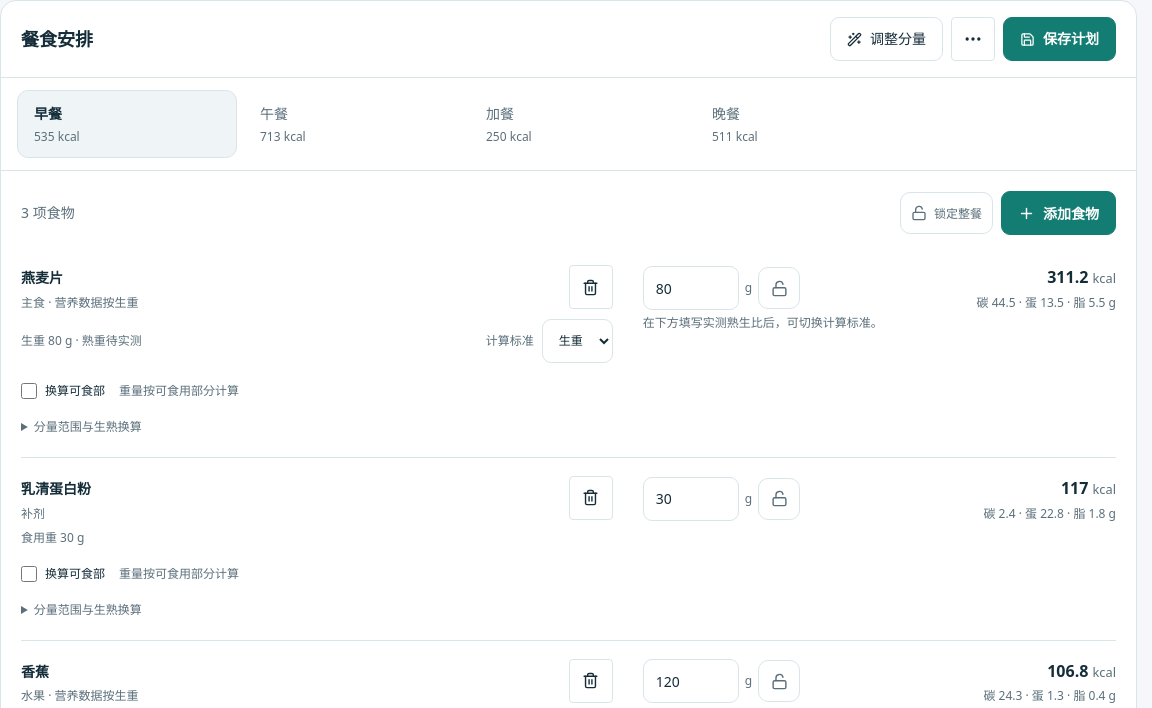
Test: MealSplitView（分餐单独页含应用推荐/保存计划 + 弹出选食） › keeps a negative serving weight as a visible draft without overwriting the plan
Step 1. Replace the text in the field named "燕麦片克重" with "-20" → [691, 288], box top-left (643, 266), bottom-right (739, 310)
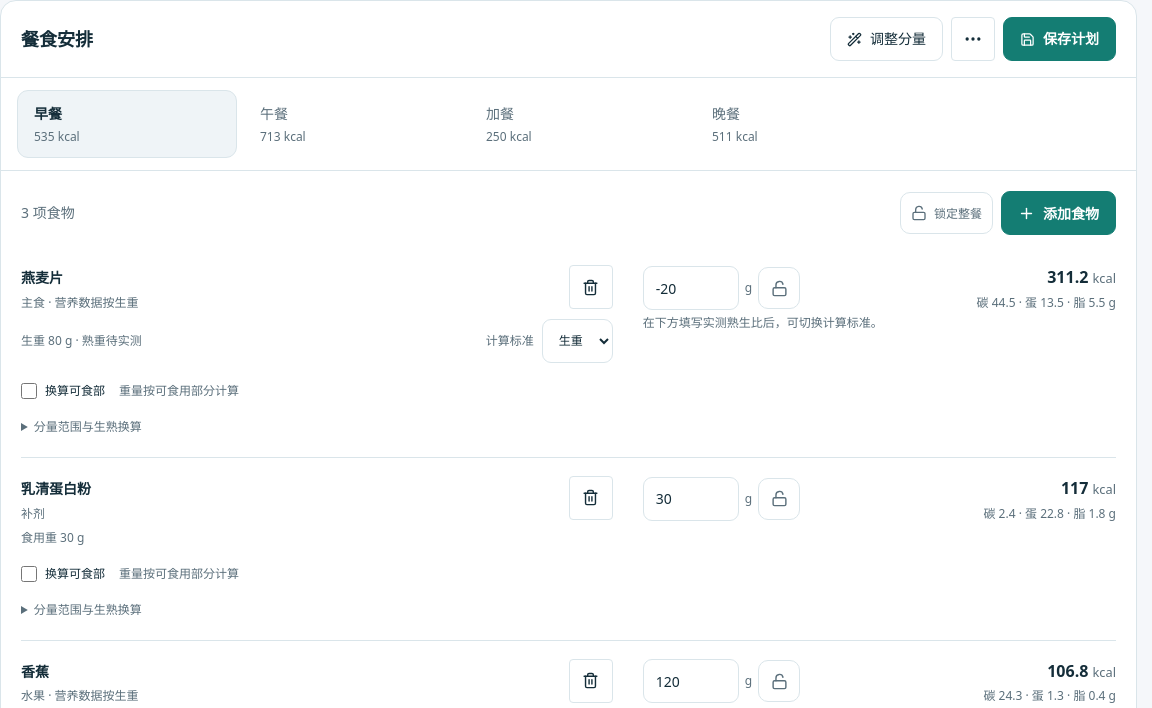
Step 2. Leave the field named "燕麦片克重", box top-left (643, 266), bottom-right (739, 310)
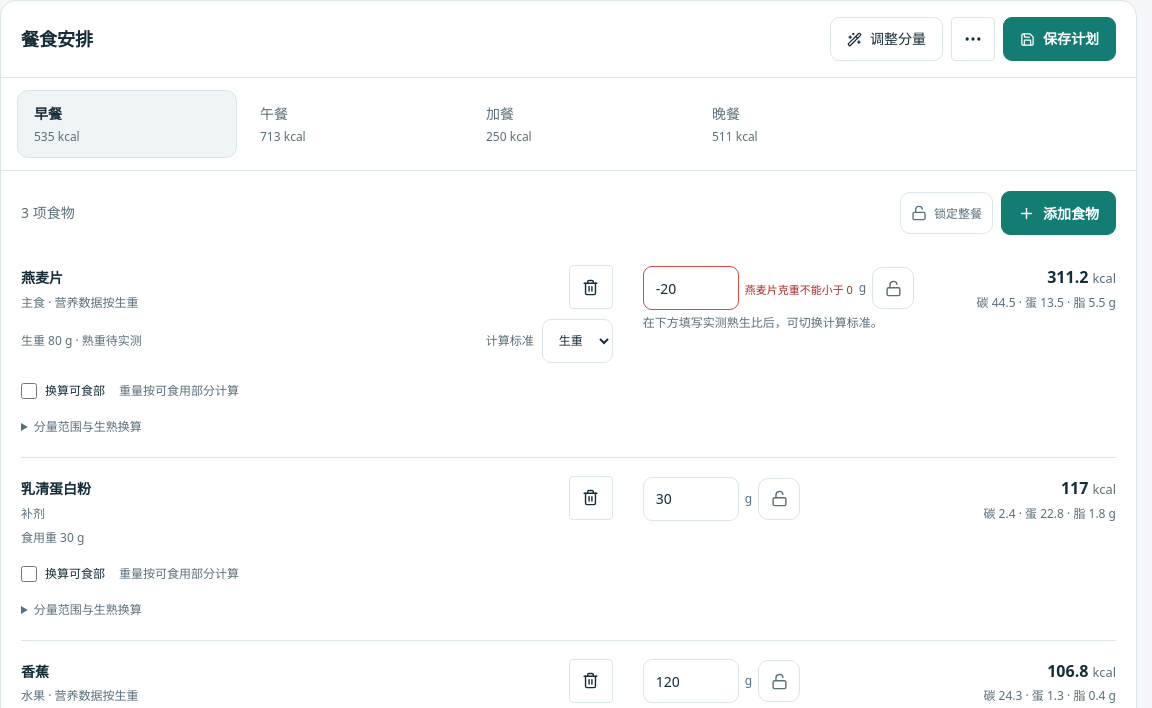
Now the text "燕麦片克重不能小于 0" is shown, box top-left (745, 283), bottom-right (853, 297)
